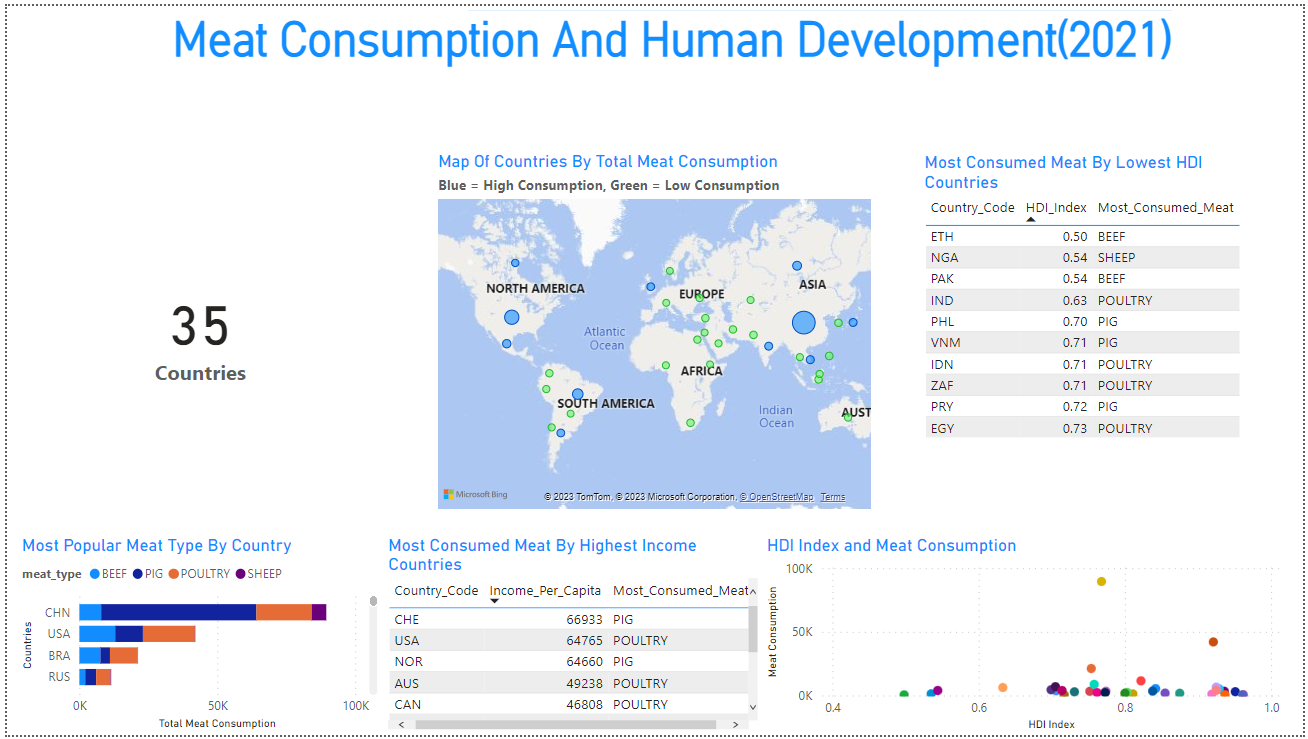

Layout of this report page (visuals, bound fields, positions):
{"tool":"powerbi","page":{"name":"Page 1","canvas":[1280,720],"ordinal":0},"visuals":[{"type":"map","title":"Map Of Countries By Total Meat Consumption","fields":{"Size":["Sum(public joined_data.value)"],"Category":["public joined_data.hdi_country_code"]},"box":[421.4,142.9,437.1,358.6],"z":0},{"type":"lineChart","title":"HDI Index and Meat Consumption","fields":{"Category":["public joined_data.hdi_index"],"Y":["Sum(public joined_data.value)"],"Series":["public joined_data.hdi_country_code"]},"box":[746.3,522.4,517.9,198.5],"z":1000},{"type":"barChart","title":"Most Popular Meat Type By Country","fields":{"Y":["Sum(public joined_data.value)"],"Category":["public joined_data.meat_country_code"],"Series":["public joined_data.meat_type"]},"box":[10.4,522.4,361.2,197],"z":2000},{"type":"tableEx","title":"Most Consumed Meat By Lowest HDI Countries","fields":{"Values":["public joined_data.hdi_country_code","public joined_data.hdi_index","public joined_data.mostconsumedmeat"]},"box":[901.4,144.3,348.6,358.6],"z":3000},{"type":"card","fields":{"Values":["Count(public joined_data.hdi_country_code)"]},"box":[32.9,142.9,315.7,358.6],"z":4000},{"type":"tableEx","title":"Most Consumed Meat By Highest Income Countries","fields":{"Values":["public joined_data.hdi_country_code","public joined_data.income_per_capita","public joined_data.mostconsumedmeat"]},"box":[371.6,522.4,374.6,197],"z":6000},{"type":"textbox","box":[34.3,0,1245.7,142.9],"z":6001}]}

Visuals, with their boxes in screenshot pixels (x1, y1, x2, y2), scaled from the page's 1280x720 canvas onto the 1308x739 screenshot:
"Map Of Countries By Total Meat Consumption" map: 431, 147, 877, 515
"HDI Index and Meat Consumption" lineChart: 763, 536, 1292, 738
"Most Popular Meat Type By Country" barChart: 11, 536, 380, 738
"Most Consumed Meat By Lowest HDI Countries" tableEx: 921, 148, 1277, 516
card - Count(public joined_data.hdi_country_code): 34, 147, 356, 515
"Most Consumed Meat By Highest Income Countries" tableEx: 380, 536, 763, 738
textbox: 35, 0, 1307, 147
